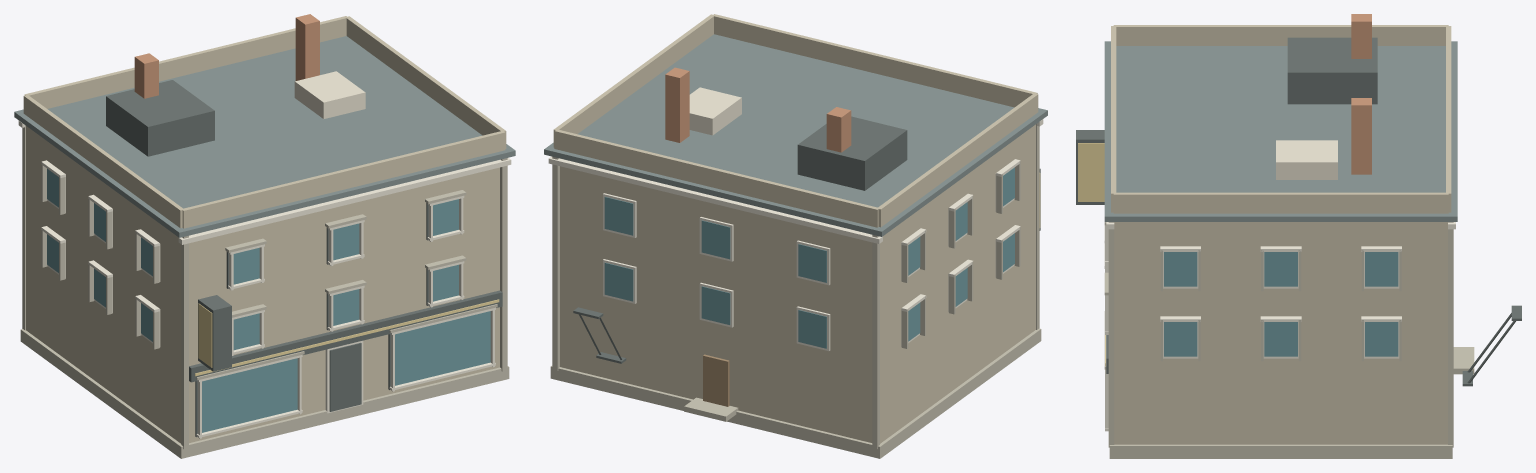
3 renders of one model, left to right at view 1: azimuth 30°, elevation 25°; view 2: azimuth 150°, elevation 25°; view 3: azimuth 270°, elevation 25°, orthographic. The views are drawn at different scales.
Bounding box in the file's own units: 16.1 × 13.44 × 17.3.
